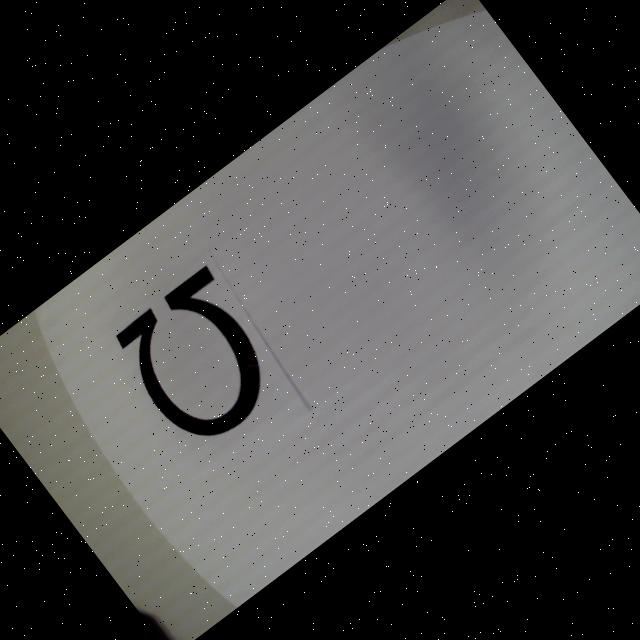OMEGA: (105, 264, 296, 458)
